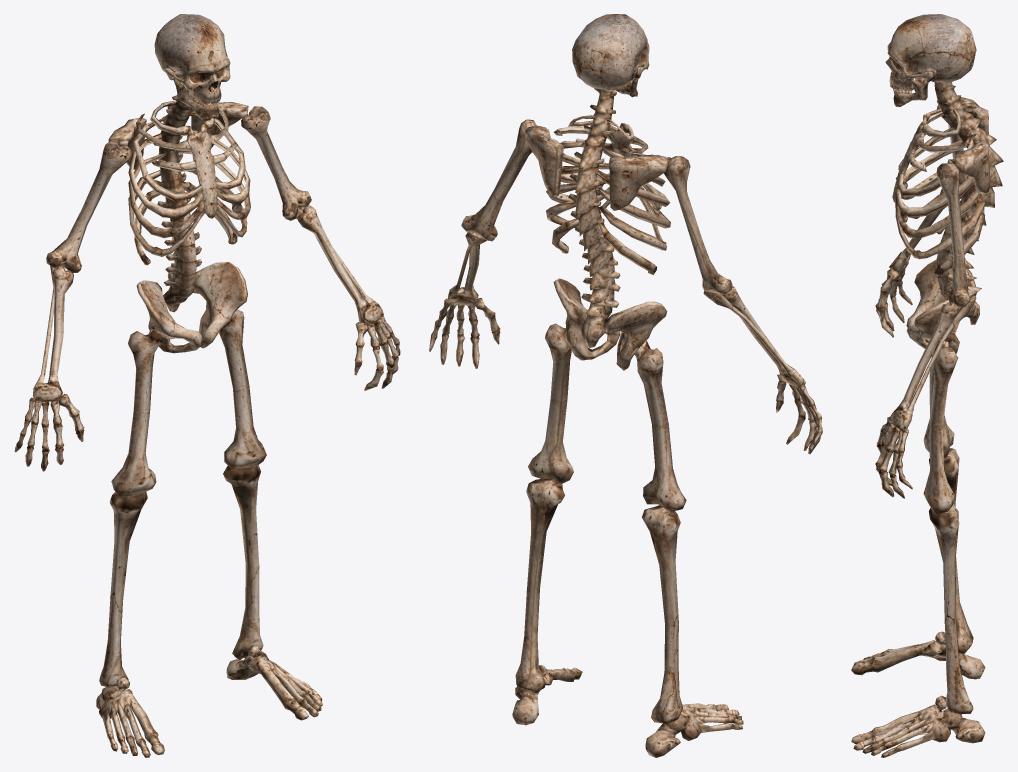
Rendered from skeleton.fbx.
3 renders of one model, left to right at view 1: azimuth 30°, elevation 25°; view 2: azimuth 150°, elevation 25°; view 3: azimuth 270°, elevation 25°, orthographic. The views are drawn at different scales.
Visible parts, largest first — view 1: Body; view 2: Body; view 3: Body.
Boxes of the visible parts, <box> form: Body: <box>14,14,400,757</box>; Body: <box>429,14,822,757</box>; Body: <box>851,14,1003,757</box>.
Size of the model in its own units: 54.78 by 94.21 by 18.82.
